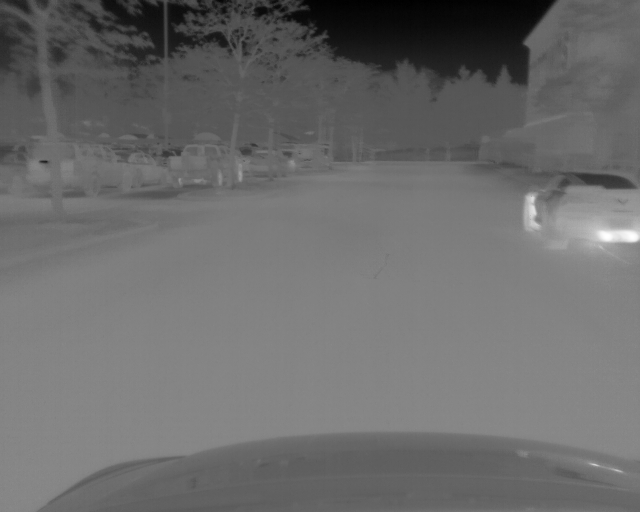car: (518, 172, 640, 256), (28, 139, 127, 195), (169, 141, 248, 188), (110, 149, 181, 195), (242, 148, 291, 179), (290, 144, 333, 174)
